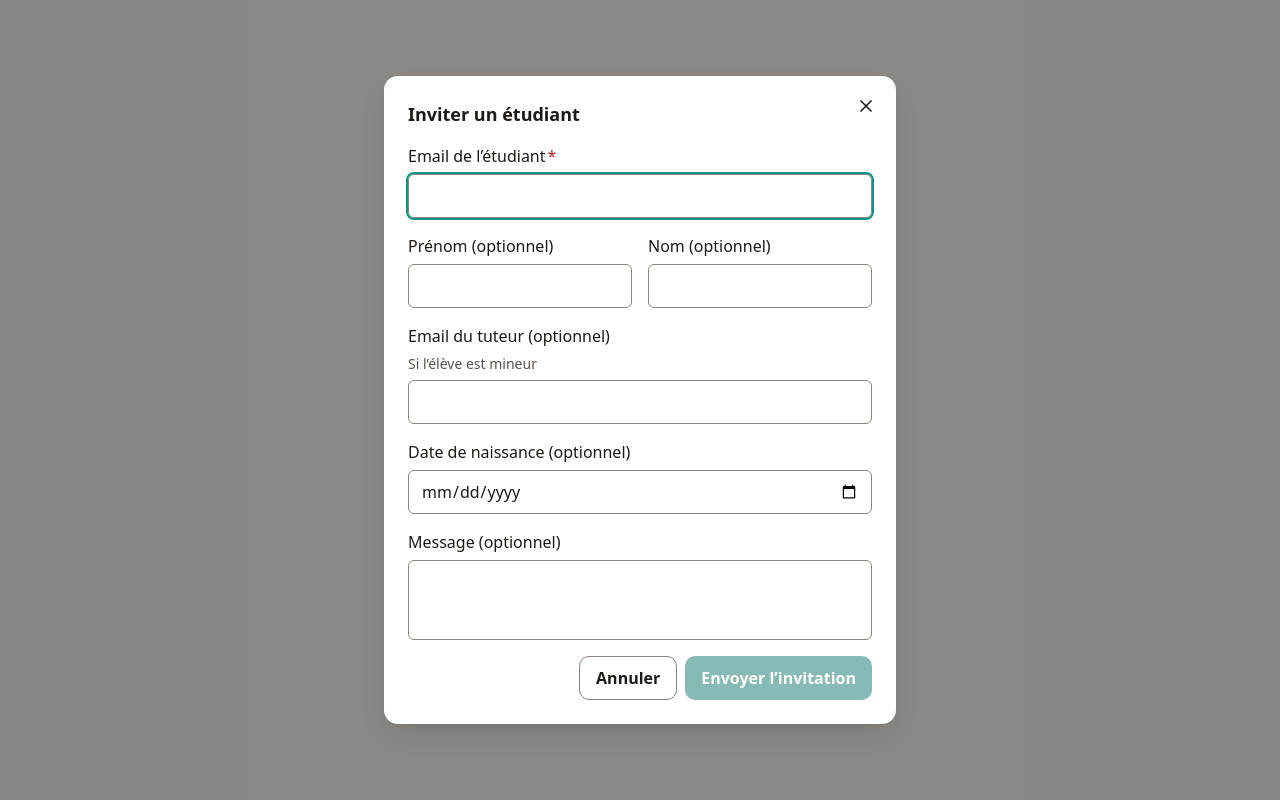
Test case: InviteStudentDialog › a 422 on the guardian email is shown on that field (translated)
In the field labelled "Email de l’étudiant": (640, 196) x1=408 y1=174 x2=872 y2=218, type "a@example.com"
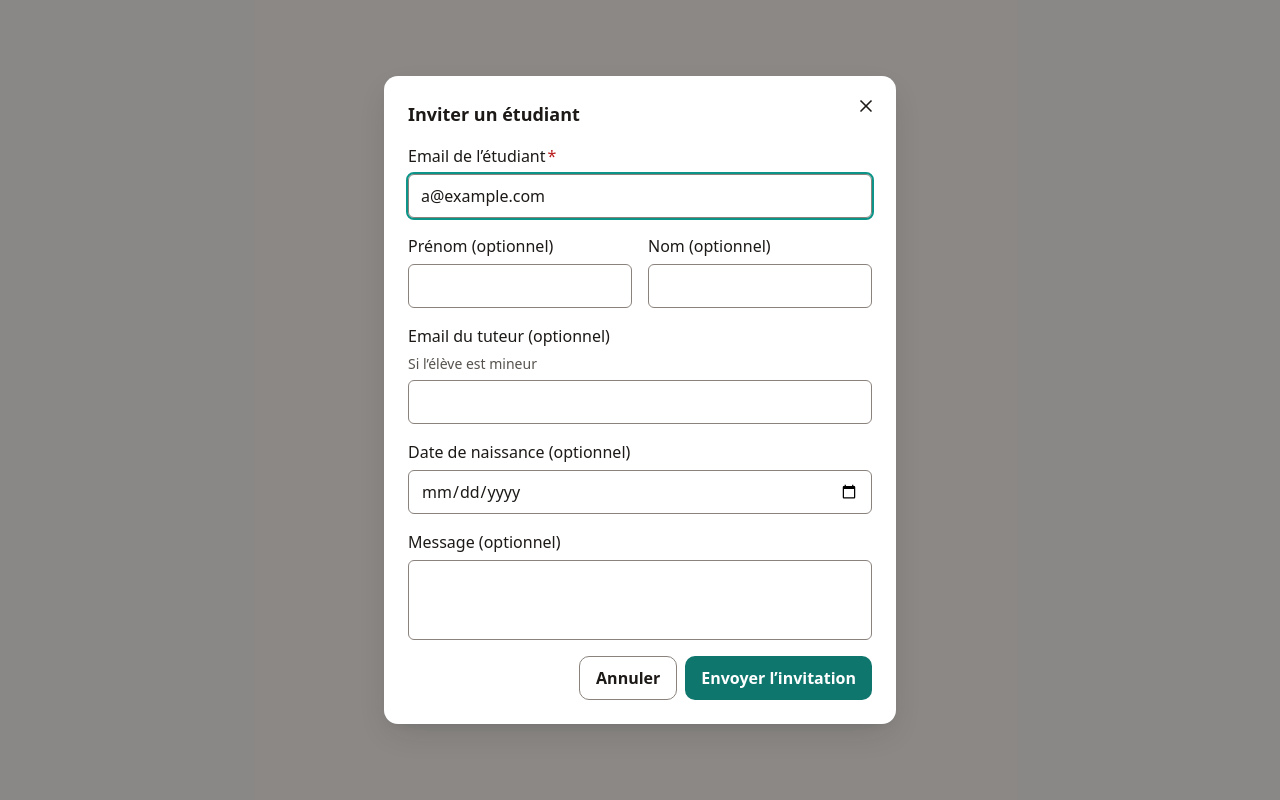
In the field labelled "Email du tuteur (optionnel)": (640, 402) x1=408 y1=380 x2=872 y2=424, type "a@example.com"
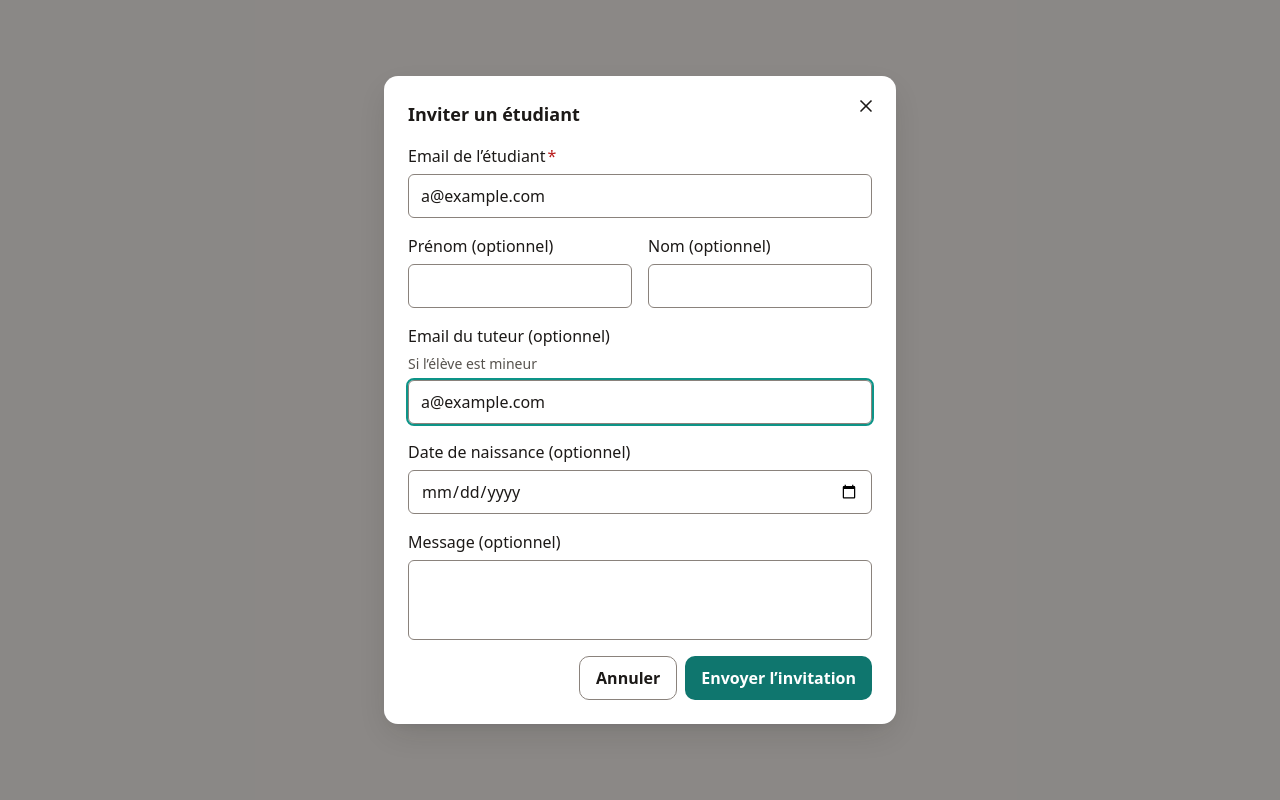
Click the button "Envoyer l’invitation": (779, 678) x1=685 y1=656 x2=872 y2=700
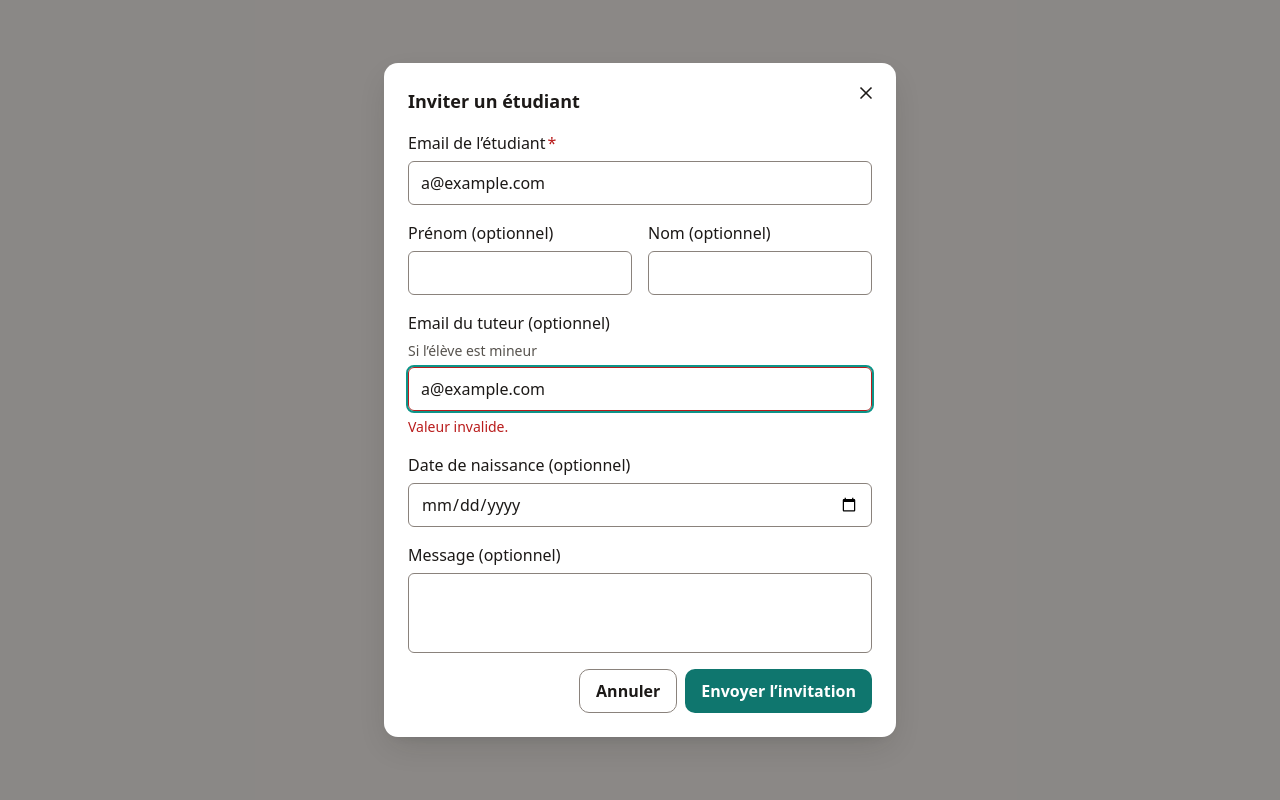
Now the text "Valeur invalide." is shown, box x1=408 y1=417 x2=508 y2=436
